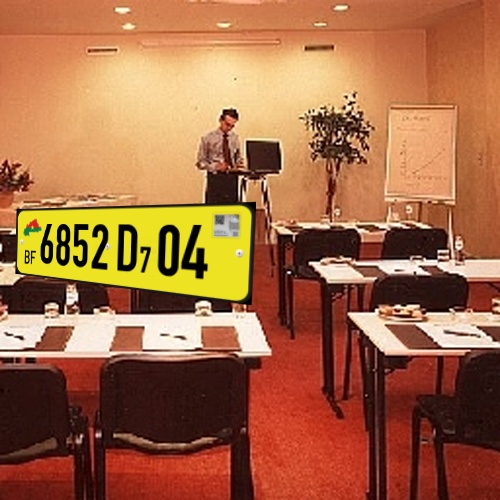plate: (12, 194, 272, 319)
